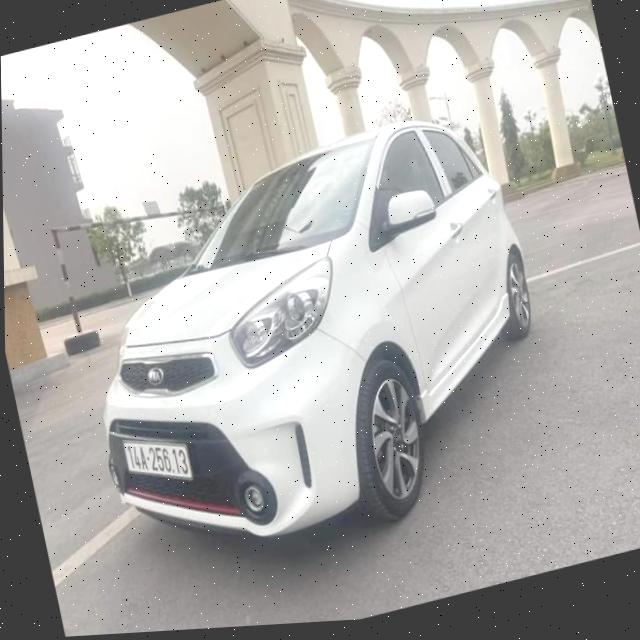car: (53, 93, 587, 600)
plate: (114, 419, 199, 497)
